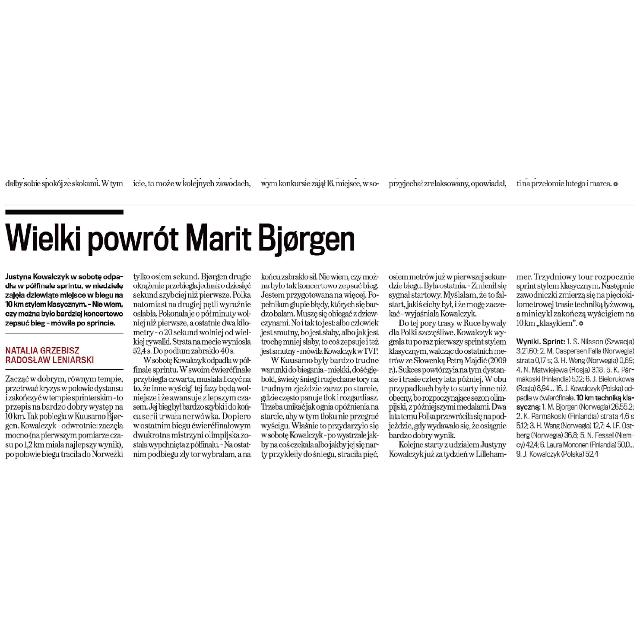author: (4, 340, 98, 366)
body: (386, 268, 512, 460), (258, 270, 384, 458), (131, 270, 255, 460), (3, 370, 127, 460), (514, 268, 640, 329)
lead: (2, 268, 126, 328)
title: (3, 216, 365, 260)
